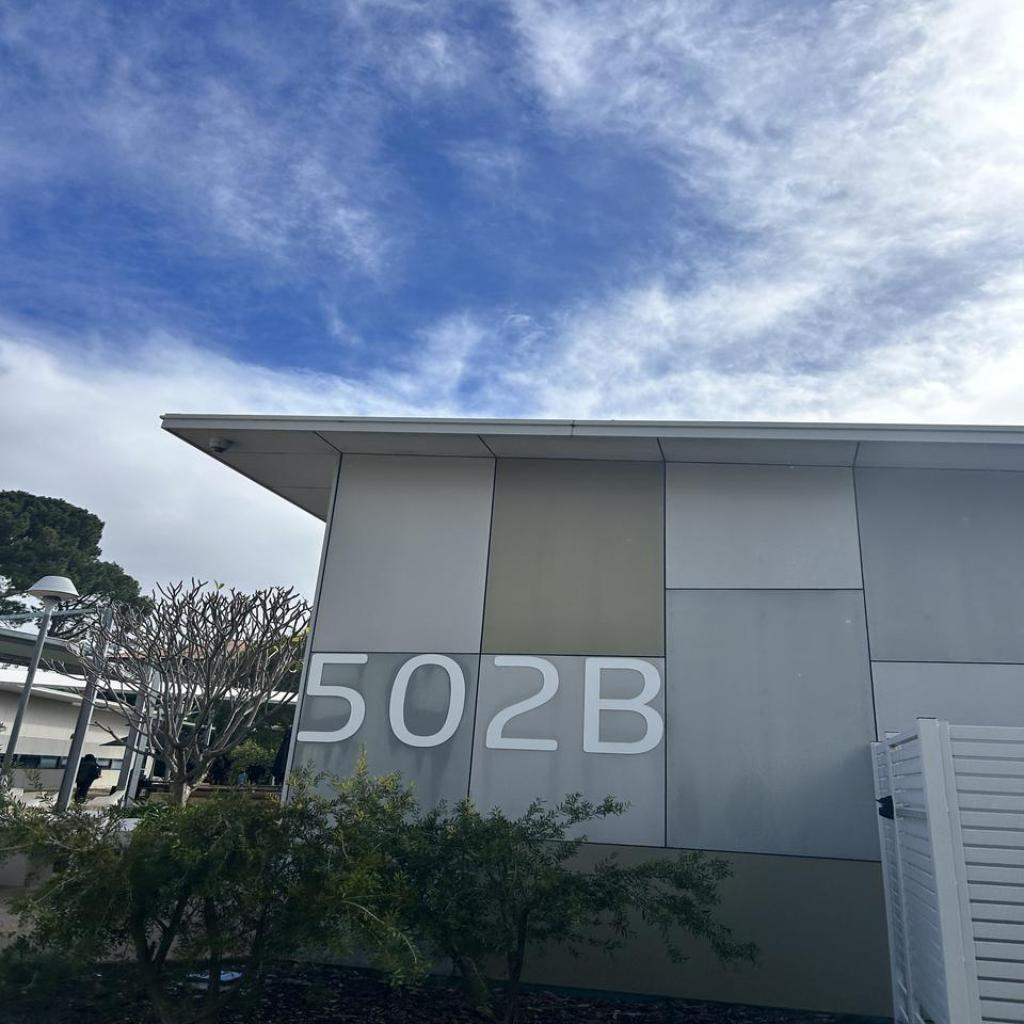BuildingCodes: (292, 651, 664, 757)
